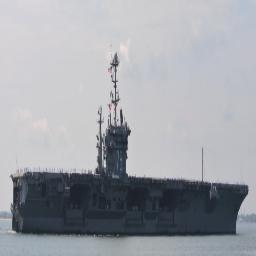Portanaves: (10, 48, 251, 241)
